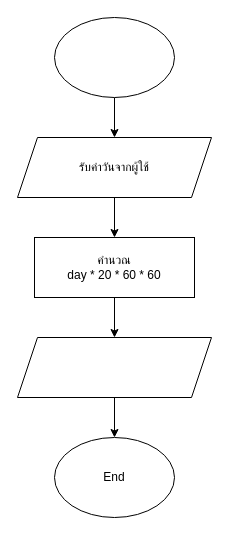
The diagram is 229 pixels wide and 535 high, and some of its shapes have lost their labels. The centre of each missing label's shape, as x and y in pixels:
Start: pixel 114 57
แสดงผล: pixel 114 367
